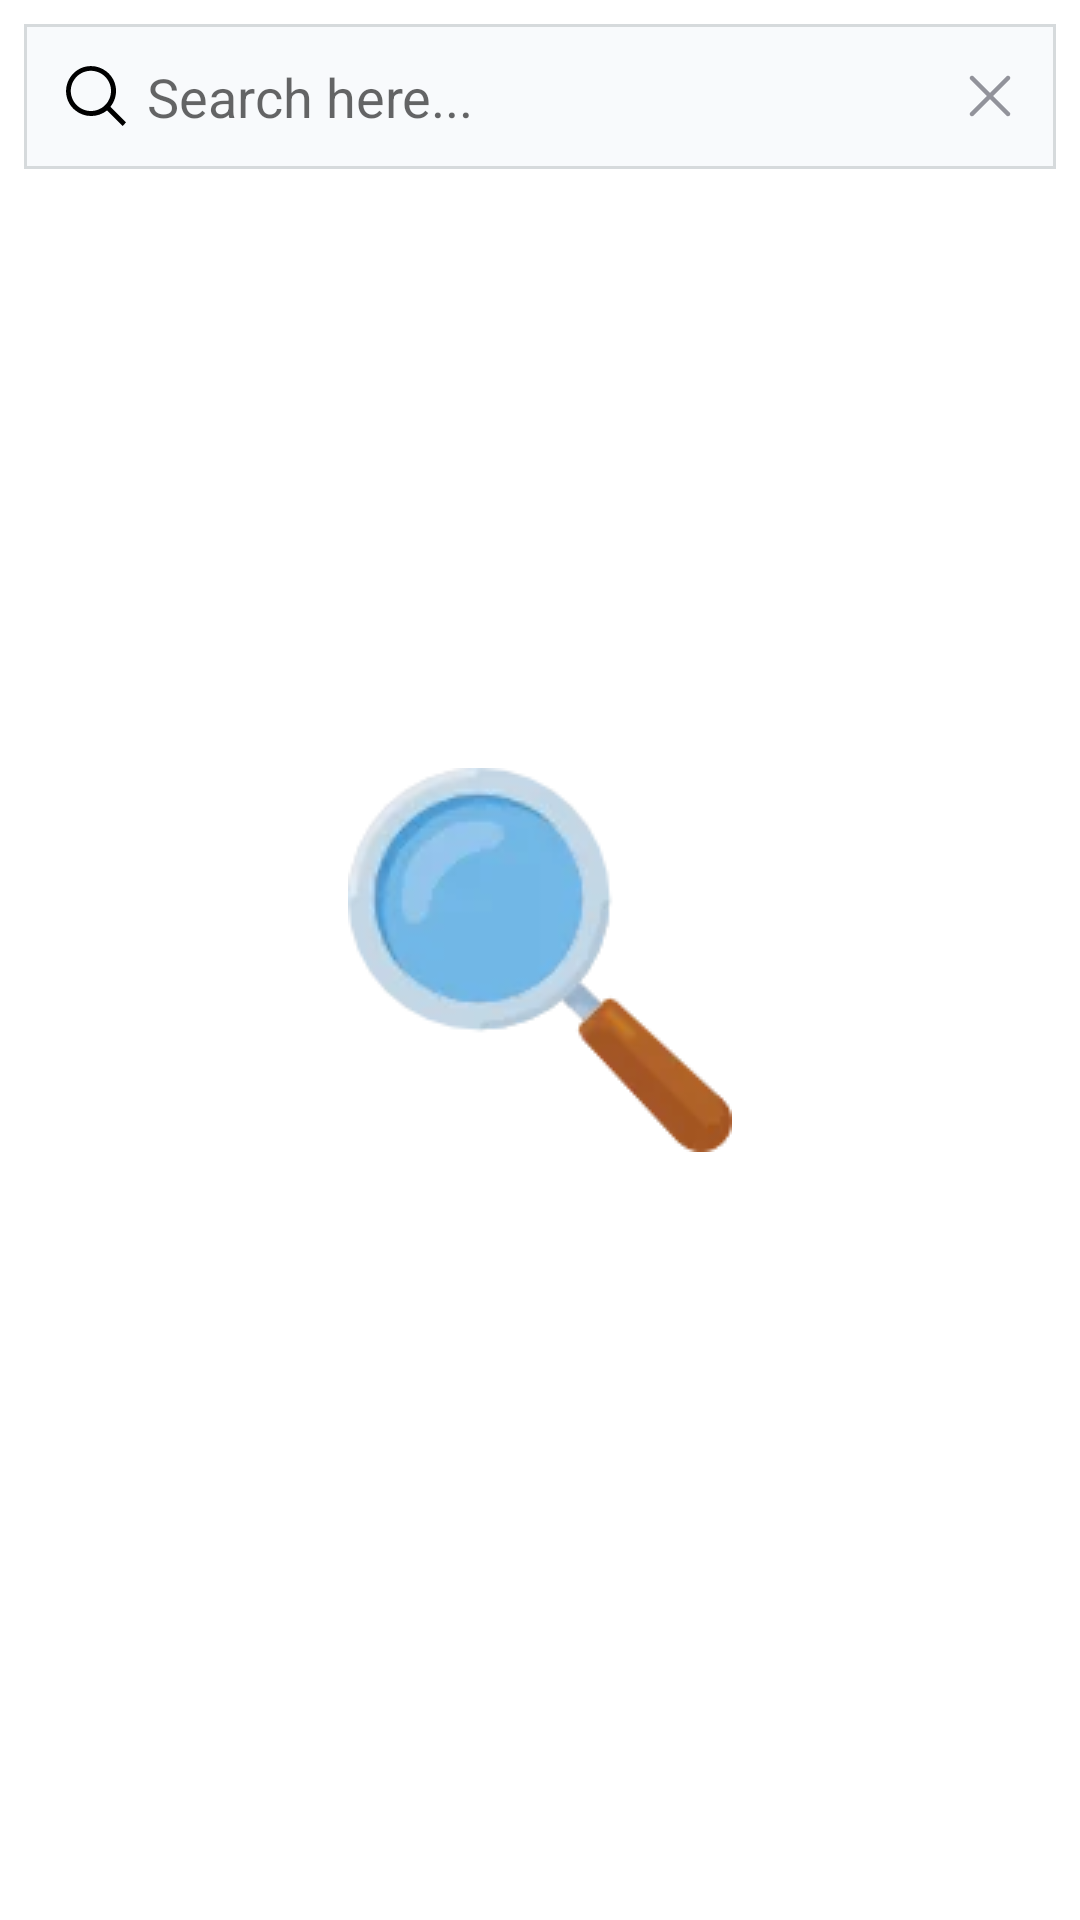

Named icons in this screenshot (1080px×1920px) and their centers, (x=x, y=y):
close: (x=990, y=96)
